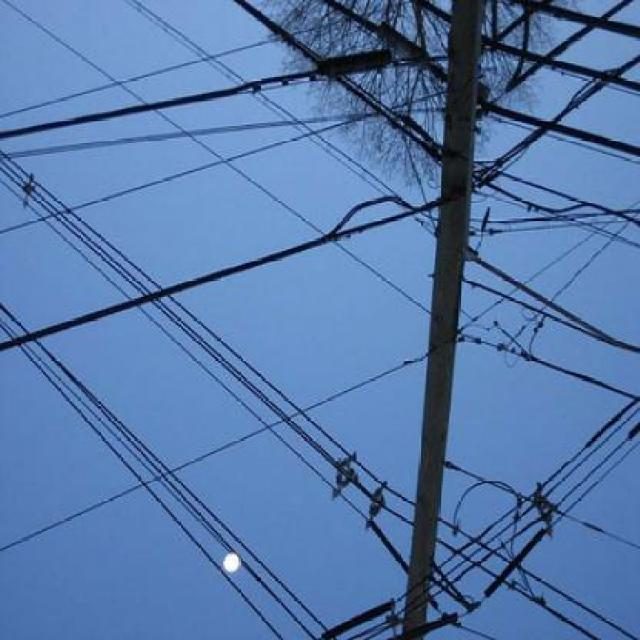pole: (389, 4, 500, 640)
